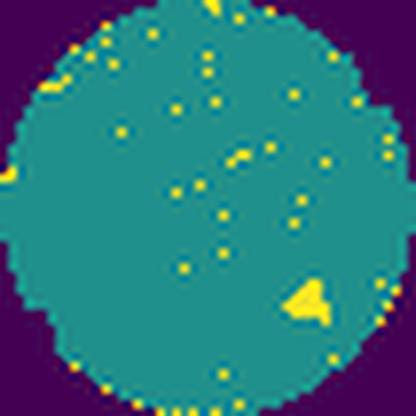Loc: (283, 277, 342, 335)
